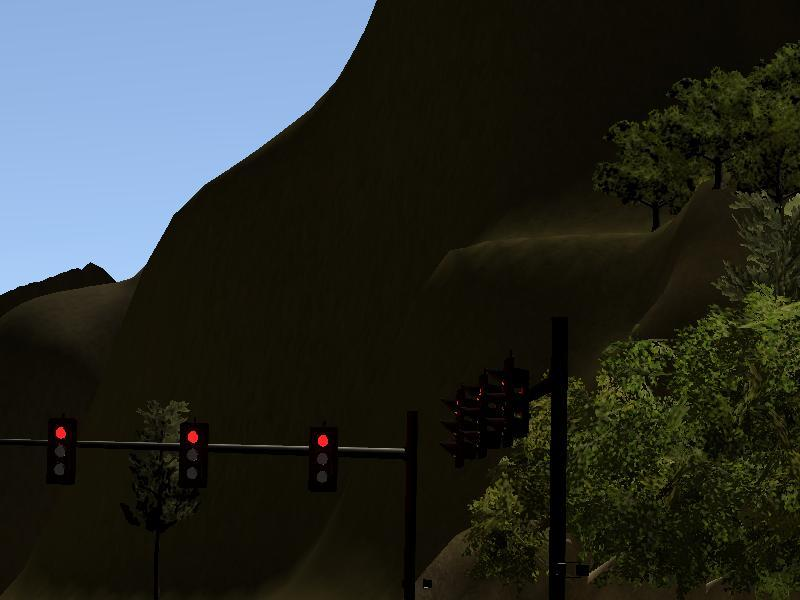Red: (47, 424, 77, 482), (182, 424, 205, 483), (316, 427, 336, 491)
